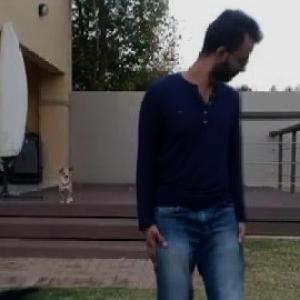follow: (1, 0, 170, 299), (139, 0, 263, 299)
